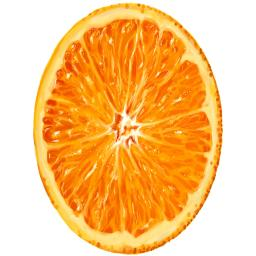orange: (27, 2, 226, 256)
